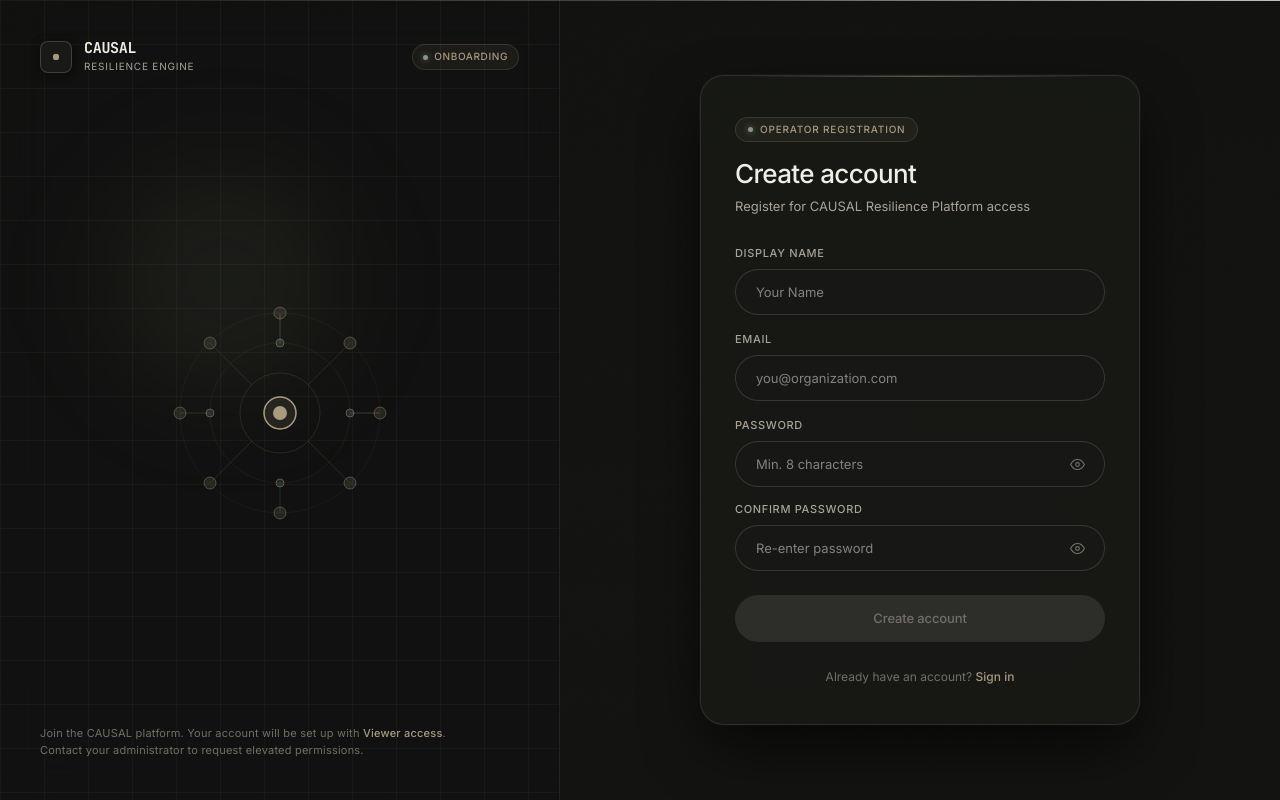
Scenario: Authentication: Sign Up Page (/signup) › calculates password strength dynamically as user types
The width and height of the screenshot is (1280, 800).
Type "abc" into the password field with id "signup-password" at (920, 464), box [735,441,1105,487]
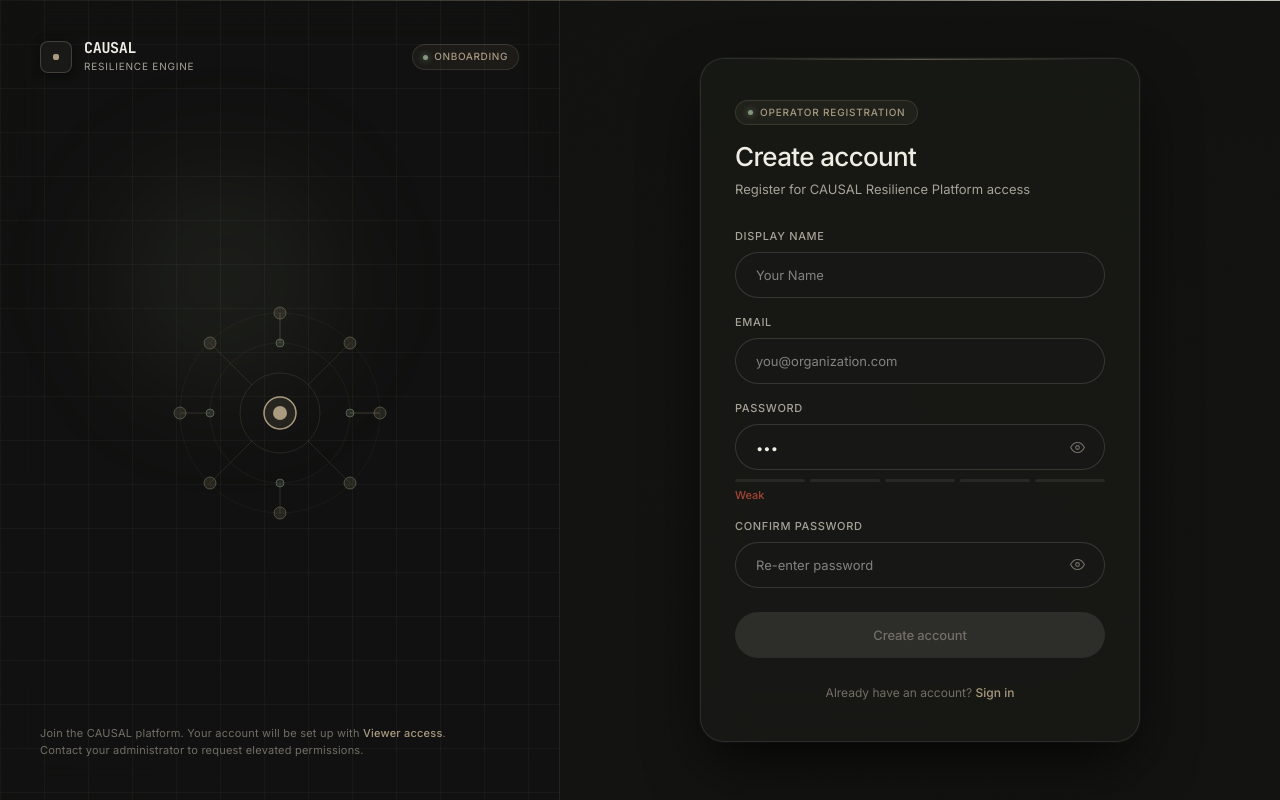
Expected: the text "Weak" is shown, [735,488,764,502]
Type "Password123!" into the password field with id "signup-password" at (920, 448), box [735,425,1105,471]
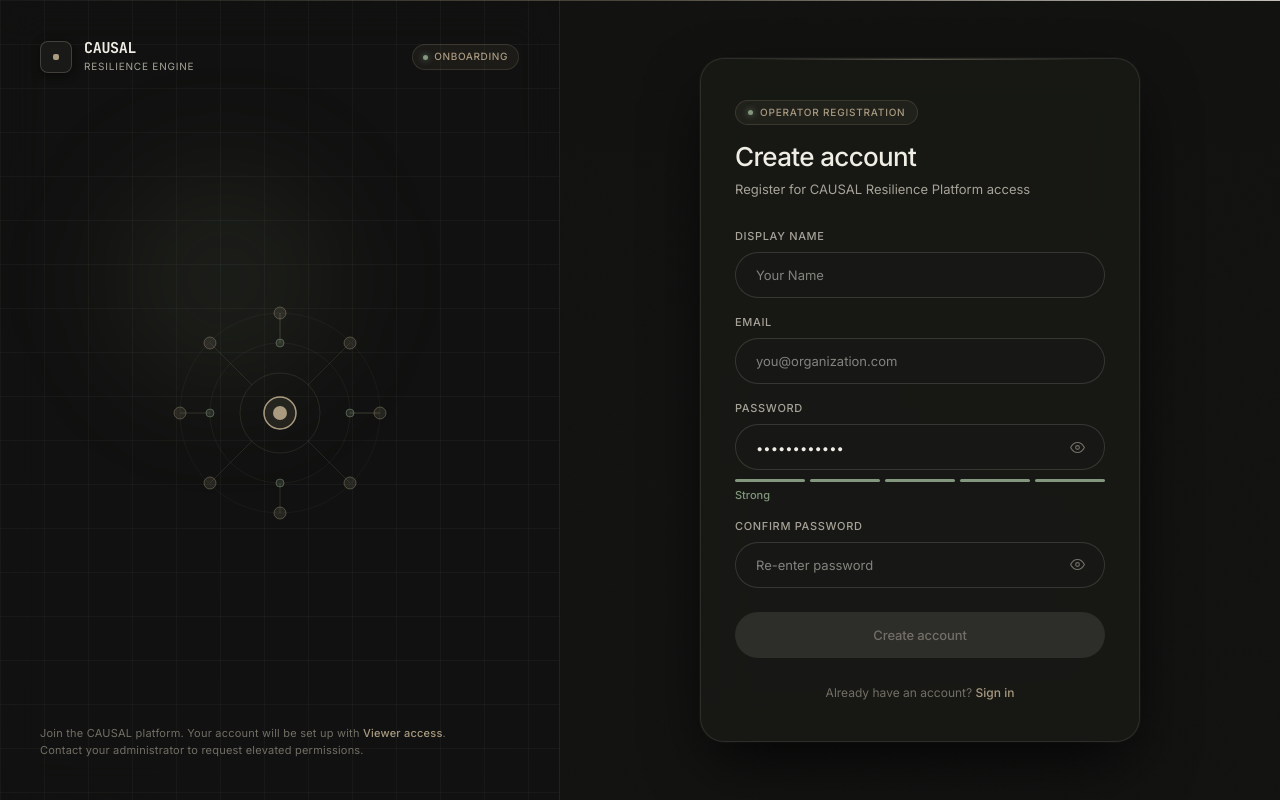
Expected: the text "Strong" is shown, [735,488,770,502]
